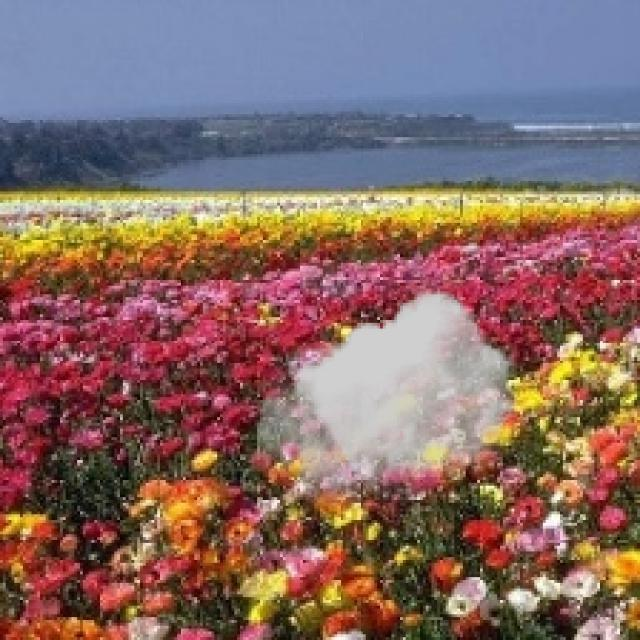Smoke: (257, 291, 517, 506)
